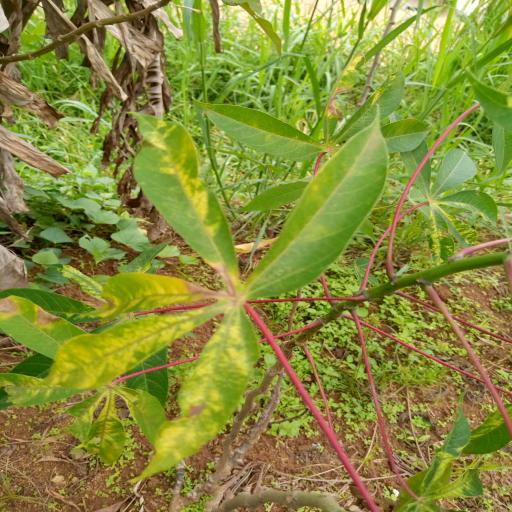Cassava_Mosaic: (5, 108, 393, 481)
